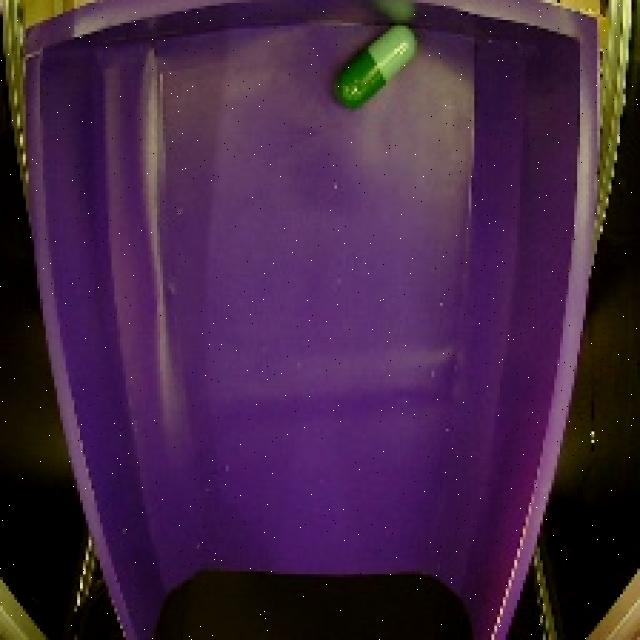small: (326, 16, 425, 123)
